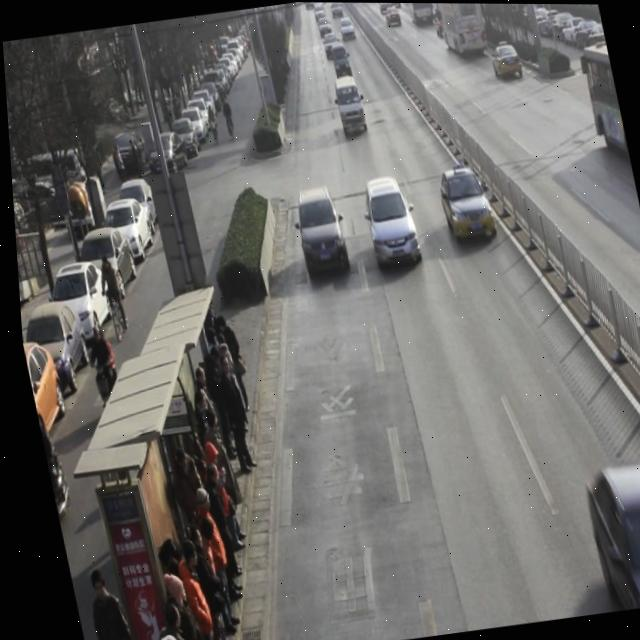car: (576, 454, 640, 611), (358, 172, 421, 268), (288, 183, 349, 276), (434, 164, 497, 245), (489, 41, 524, 80), (321, 29, 343, 60)
truck: (332, 75, 368, 135), (329, 40, 354, 82)
van: (576, 41, 628, 162), (430, 3, 488, 61)
